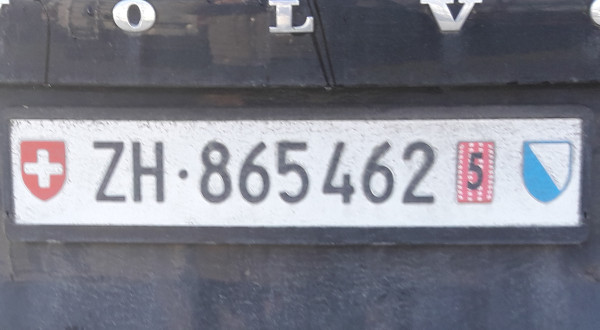license_plate: (8, 117, 580, 227)
